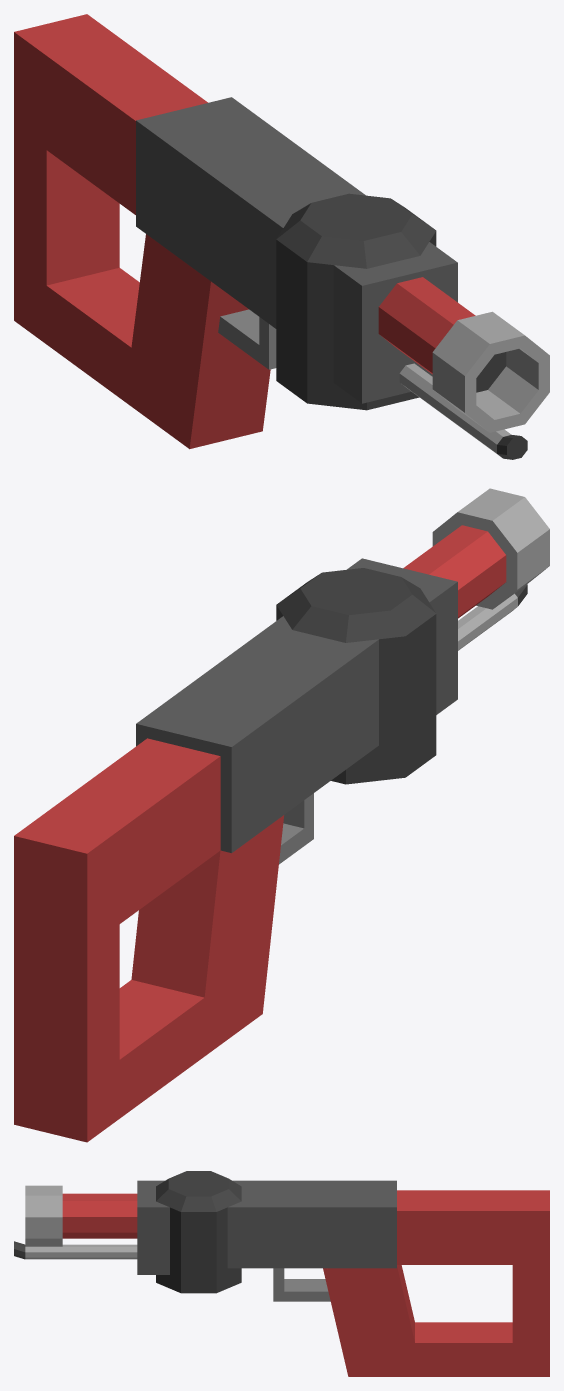
The model's file is flamethrower_Mesh1_Group2_Group1_Model.FBX.
3 renders of one model, top to bottom at view 1: azimuth 30°, elevation 25°; view 2: azimuth 150°, elevation 25°; view 3: azimuth 270°, elevation 25°, orthographic. The views are drawn at different scales.
Parts seen in each view (by area): view 1: flamethrower_Mesh1_Group2_Group1_Model; view 2: flamethrower_Mesh1_Group2_Group1_Model; view 3: flamethrower_Mesh1_Group2_Group1_Model.
Part boxes in pixels (bbox=[...]): flamethrower_Mesh1_Group2_Group1_Model: bbox=[14, 14, 549, 459]; flamethrower_Mesh1_Group2_Group1_Model: bbox=[14, 488, 549, 1142]; flamethrower_Mesh1_Group2_Group1_Model: bbox=[14, 1171, 549, 1376].
Size of the model in its own units: 6.2 by 38.75 by 14.58.
